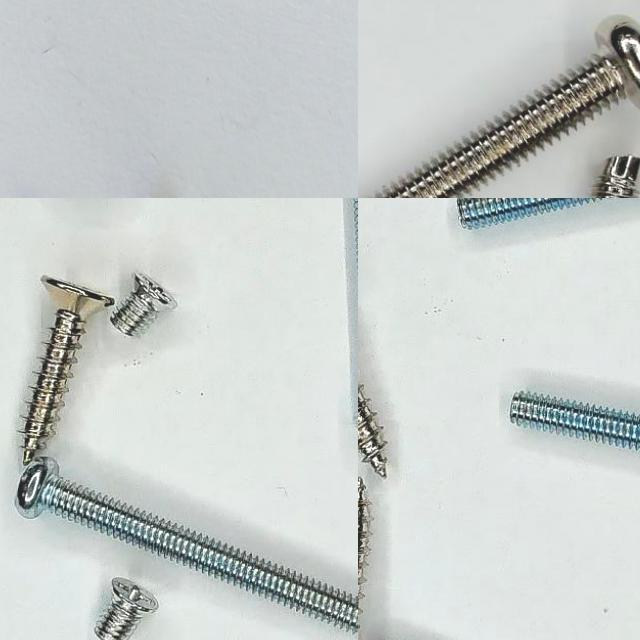Screw: (17, 461, 358, 635), (372, 15, 640, 198), (21, 276, 113, 465), (509, 392, 640, 451), (109, 273, 176, 337), (94, 578, 157, 640), (358, 384, 385, 478)
